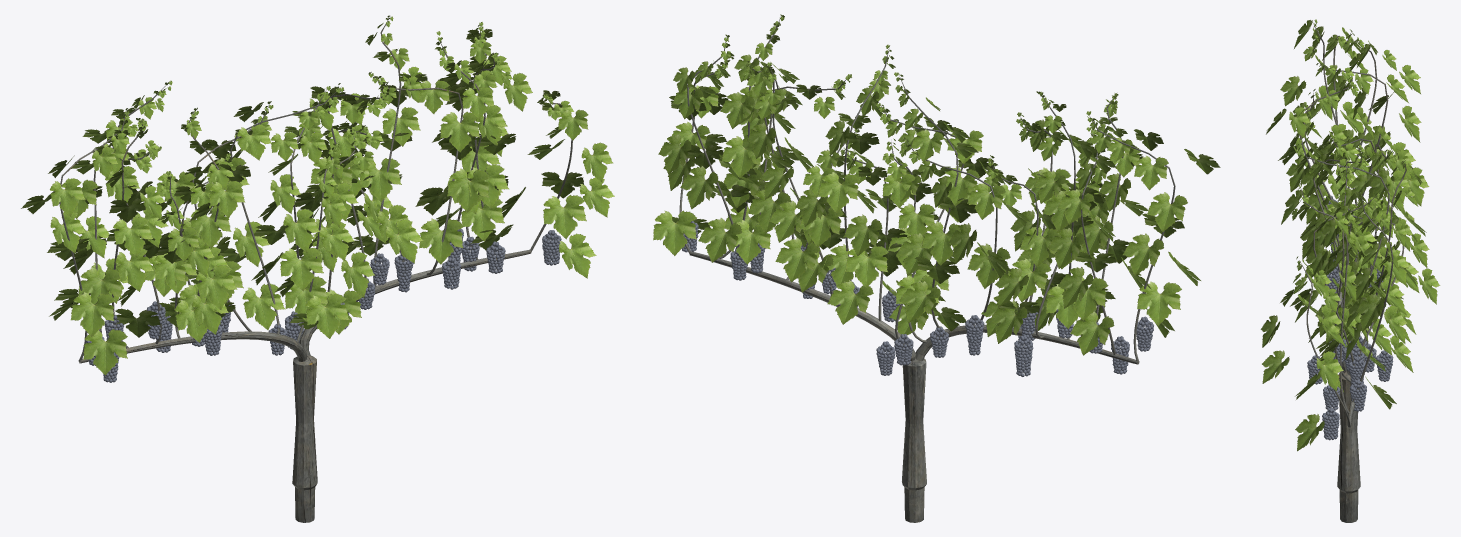
File: Grape.fbx
3 renders of one model, left to right at view 1: azimuth 30°, elevation 25°; view 2: azimuth 150°, elevation 25°; view 3: azimuth 270°, elevation 25°, orthographic. The views are drawn at different scales.
Parts seen in each view (by area): view 1: grapeVSP1; view 2: grapeVSP1; view 3: grapeVSP1.
Boxes of the visible parts, <box> form: grapeVSP1: <box>21,15,614,522</box>; grapeVSP1: <box>653,14,1220,522</box>; grapeVSP1: <box>1260,19,1440,522</box>.
Bounding box in the file's own units: 246 × 198 × 82.06.
Materials: 3 (2 with a texture image).
